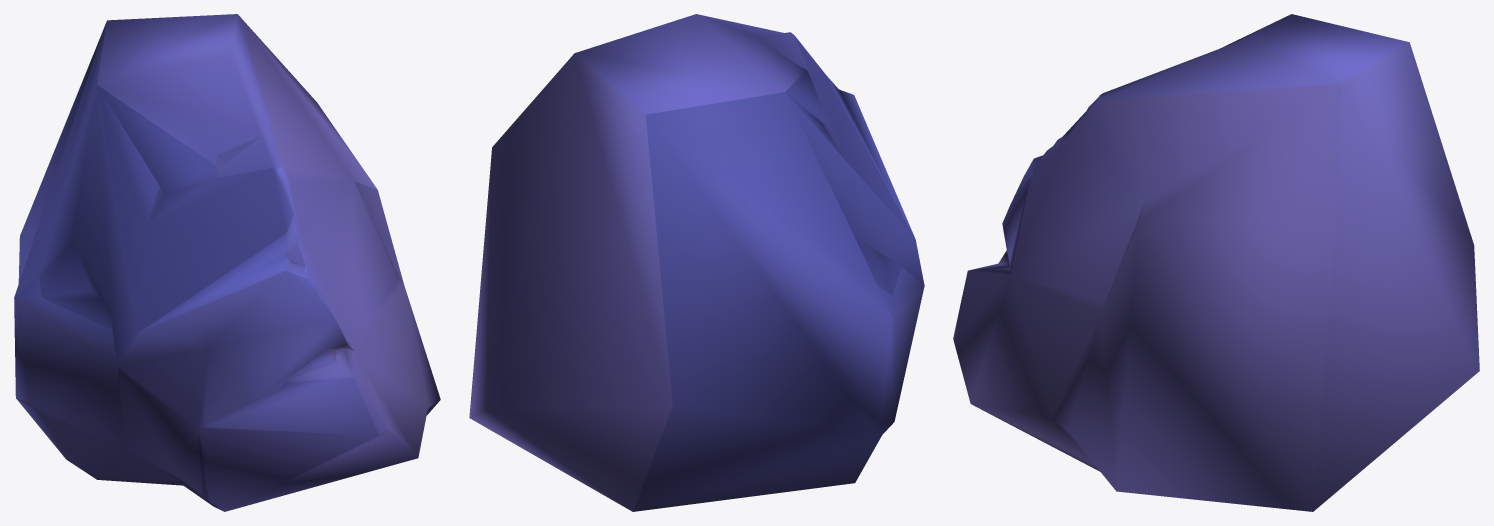
File: model.progressive.glb
3 renders of one model, left to right at view 1: azimuth 30°, elevation 25°; view 2: azimuth 150°, elevation 25°; view 3: azimuth 270°, elevation 25°, orthographic. The views are drawn at different scales.
Visible parts, largest first — view 1: material; view 2: material; view 3: material.
Part boxes in pixels (x1=…): material: x1=14, y1=14, x2=440, y2=511; material: x1=469, y1=14, x2=924, y2=511; material: x1=953, y1=14, x2=1479, y2=511.
Bounding box in the file's own units: 1.49 × 1.53 × 1.82.
Materials: 1 (1 with a texture image).
